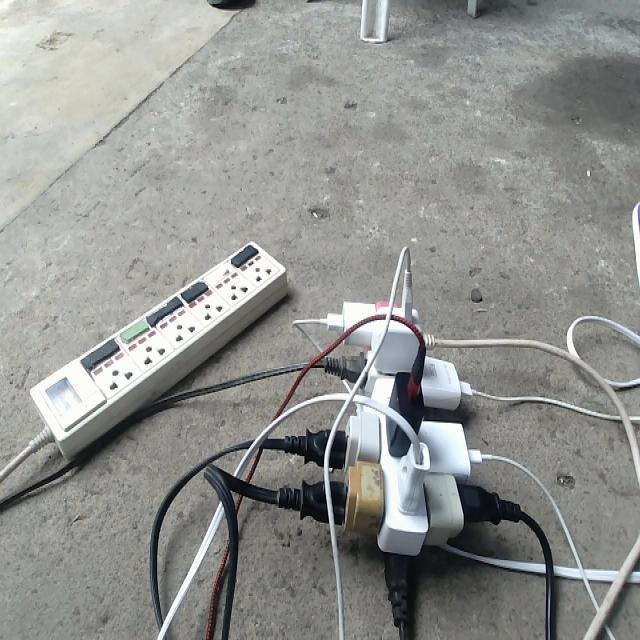-: (304, 292, 483, 560)
